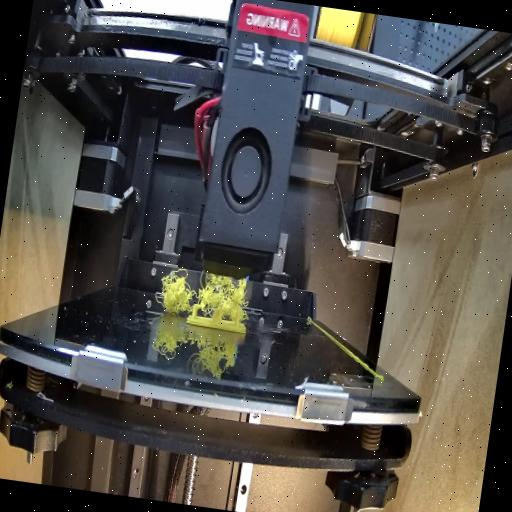spaghetti: (154, 258, 250, 325)
